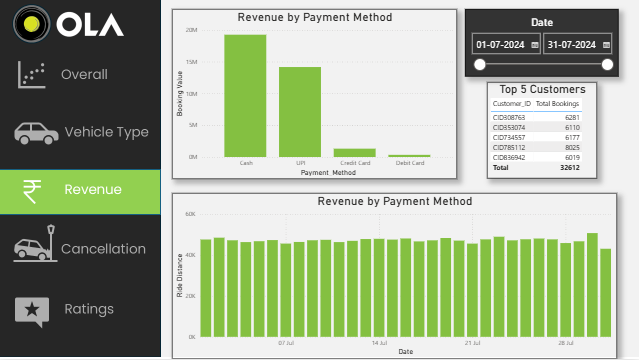

Layout of this report page (visuals, bound fields, positions):
{"tool":"powerbi","page":{"name":"Revenue","canvas":[1280,720],"ordinal":2},"visuals":[{"type":"actionButton","box":[0,229,322.6,70.6],"z":0},{"type":"actionButton","box":[0,447.8,322.6,92.2],"z":1000},{"type":"actionButton","box":[0,580.3,322.6,92.2],"z":2000},{"type":"actionButton","box":[0,110.9,322.6,89.3],"z":3000},{"type":"columnChart","title":"Revenue by Payment Method","fields":{"Y":["Sum(July.Booking_Value)"],"Category":["July.Payment_Method"]},"box":[346.7,20,570,340],"z":4000},{"type":"columnChart","title":"Revenue by Payment Method","fields":{"Category":["July.Date"],"Y":["Sum(July.Ride_Distance)"]},"box":[346.7,388.3,890,331.7],"z":5000},{"type":"slicer","title":"Date","fields":{"Values":["July.Date"]},"box":[931.7,20,306.7,135],"z":5001},{"type":"tableEx","title":"Top 5 Customers","fields":{"Values":["July.Customer_ID","Sum(July.Booking_Value)"]},"box":[975,166.7,220,193.3],"z":5002}]}

Visuals, with their boxes on the page's 1280x720 design canvas (x1, y1, x2, y2). These are canvas units, not pixel positions in the 639x360 screenshot, which may show the page scaled, cropped or inside an application window:
actionButton: region(0, 229, 323, 300)
actionButton: region(0, 448, 323, 540)
actionButton: region(0, 580, 323, 672)
actionButton: region(0, 111, 323, 200)
"Revenue by Payment Method" columnChart: region(347, 20, 917, 360)
"Revenue by Payment Method" columnChart: region(347, 388, 1237, 720)
"Date" slicer: region(932, 20, 1238, 155)
"Top 5 Customers" tableEx: region(975, 167, 1195, 360)
